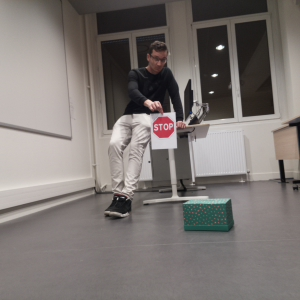stop: (152, 116, 175, 139)
